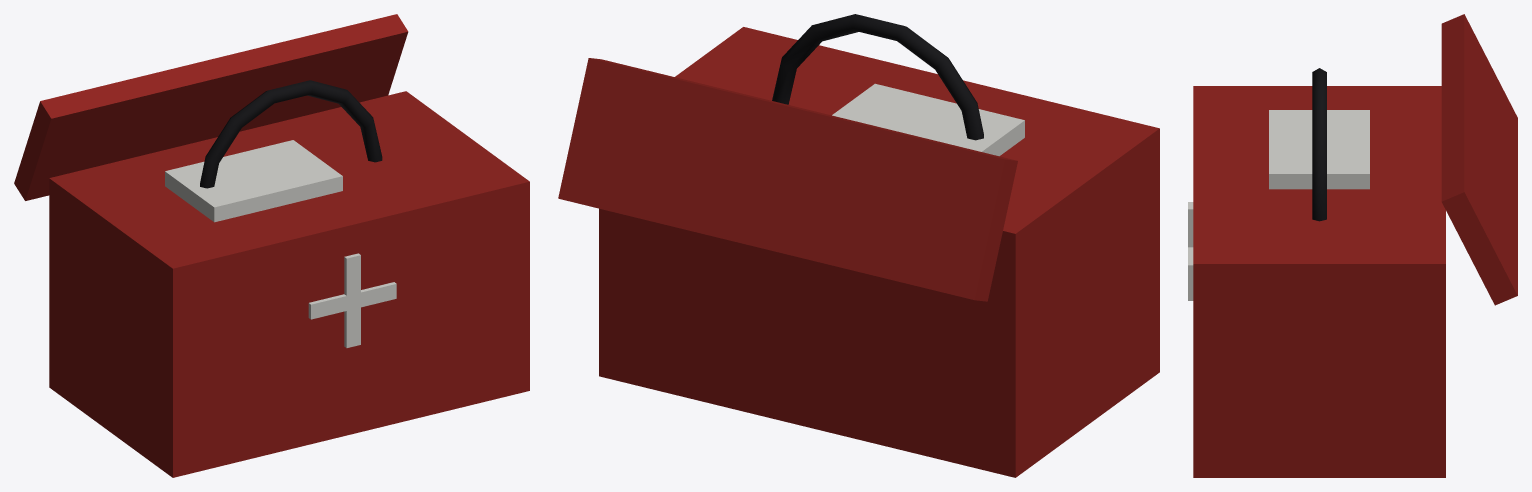
The model's file is Paramedic_bag.obj.
3 views of the same model, side by side, from view 1: azimuth 30°, elevation 25°; view 2: azimuth 150°, elevation 25°; view 3: azimuth 270°, elevation 25° (orthographic). The views are drawn at different scales.
Parts seen in each view (by area): view 1: Paramedic_bag; view 2: Paramedic_bag; view 3: Paramedic_bag.
Boxes of the visible parts, left/top/right/bottom form: Paramedic_bag: left=14, top=14, right=529, bottom=477; Paramedic_bag: left=558, top=14, right=1159, bottom=477; Paramedic_bag: left=1188, top=14, right=1517, bottom=477.
Bounding box in the file's own units: 0.5 × 0.4067 × 0.3913.
